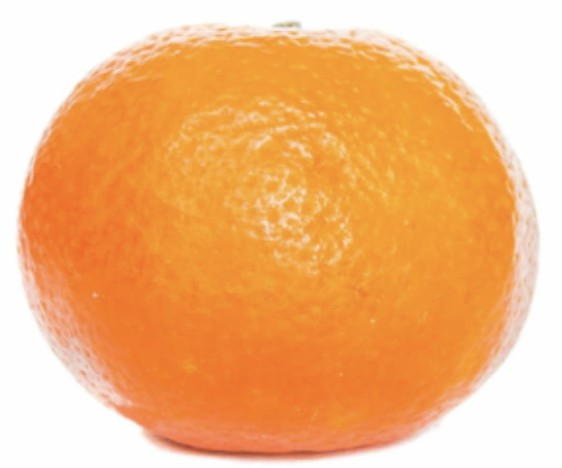fresh_orange: (13, 21, 540, 459)
